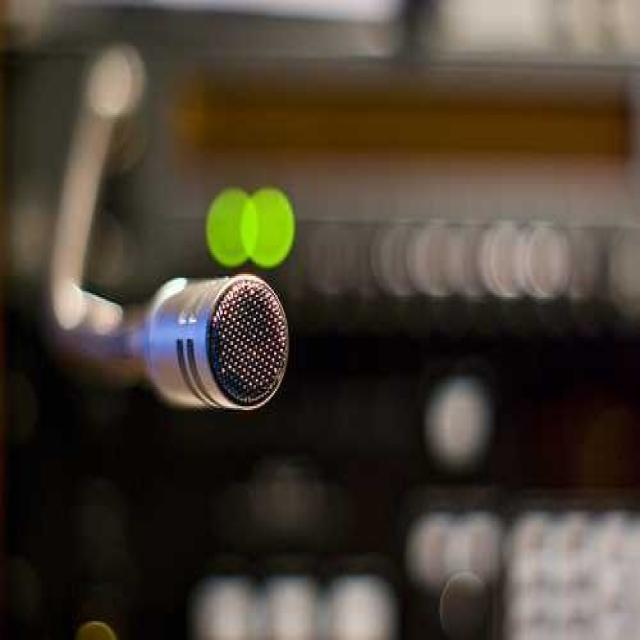microphone: (55, 263, 292, 418)
